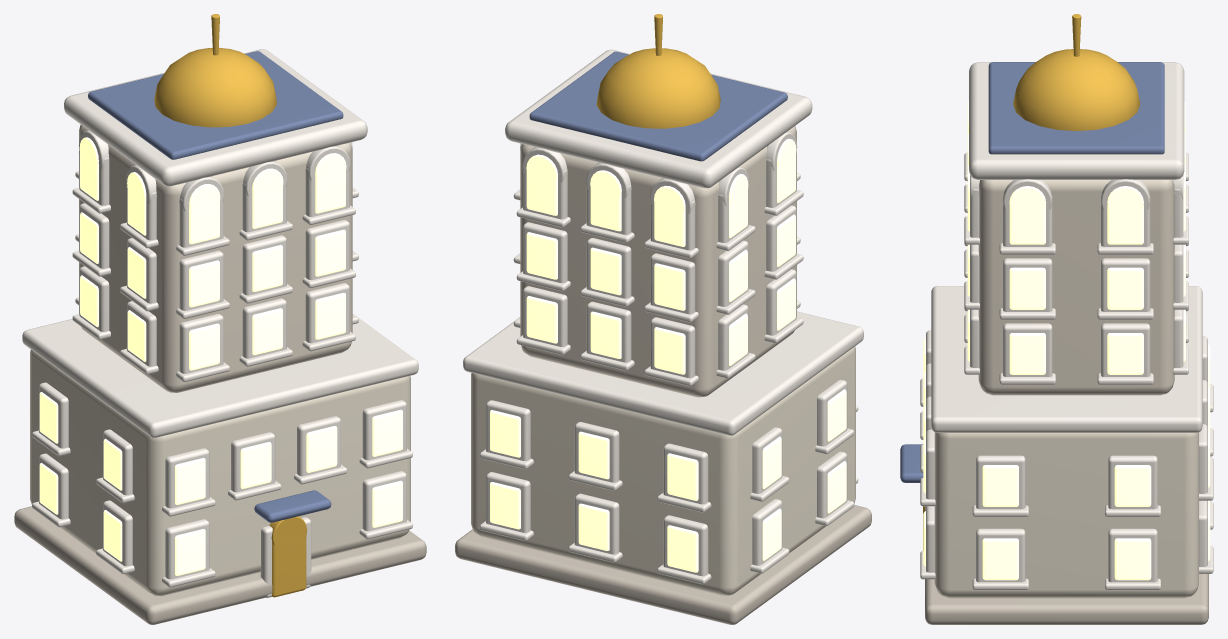
3 views of the same model, side by side, from view 1: azimuth 30°, elevation 25°; view 2: azimuth 150°, elevation 25°; view 3: azimuth 270°, elevation 25° (orthographic). The views are drawn at different scales.
Visible parts, largest first — view 1: Cube; view 2: Cube; view 3: Cube.
Boxes of the visible parts, bbox=[...] form: Cube: bbox=[14, 14, 426, 624]; Cube: bbox=[455, 14, 871, 624]; Cube: bbox=[900, 14, 1213, 624].
Size of the model in its own units: 0.699 by 1.22 by 0.6395.
